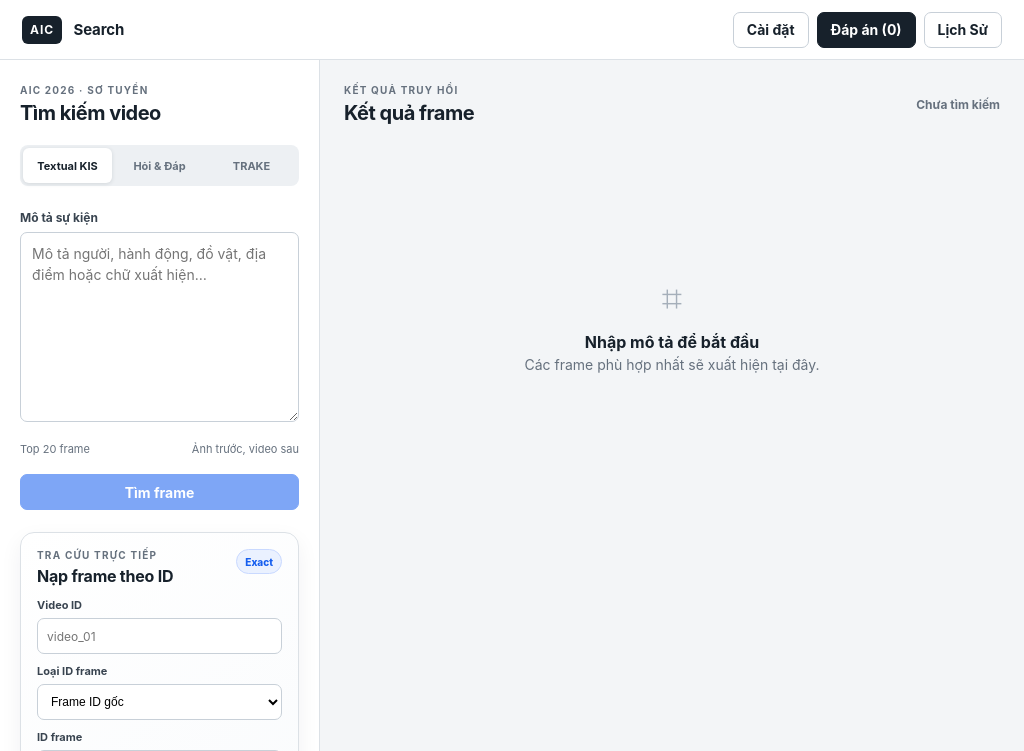
qualification frame-first workbench › shows the keyframe ordinal and source frame in the object result list
Type "Một người" into the text box labelled "Mô tả sự kiện" at point(160, 327), box [20,232,299,422]
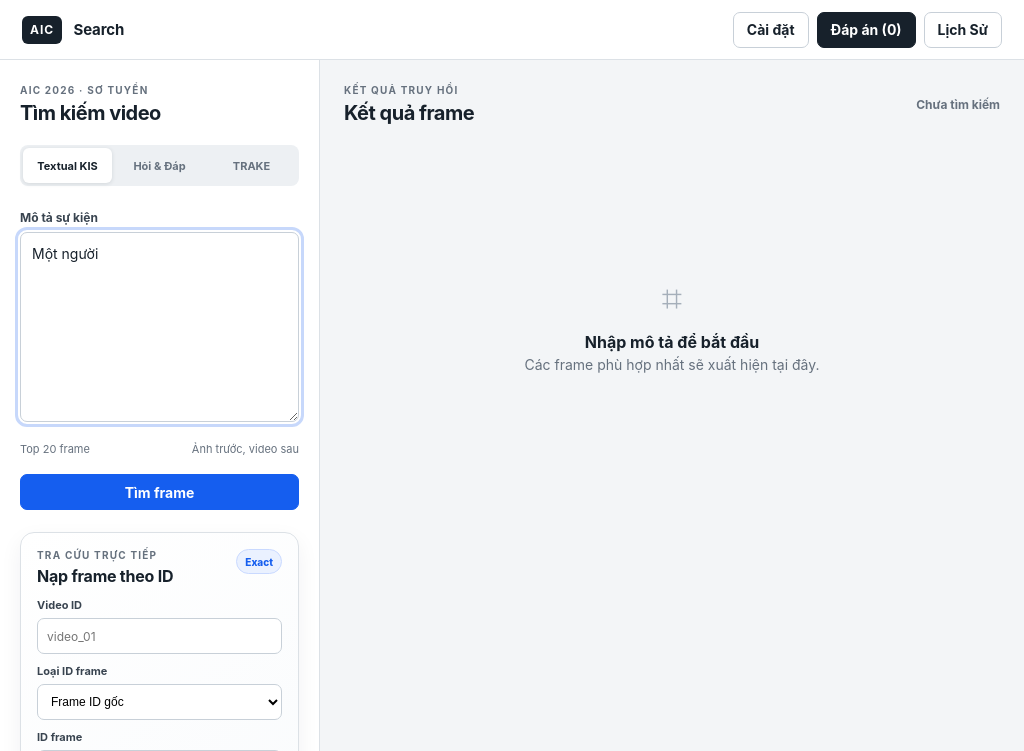
Click the button "Tìm frame" at point(160, 492), box [20,474,299,510]
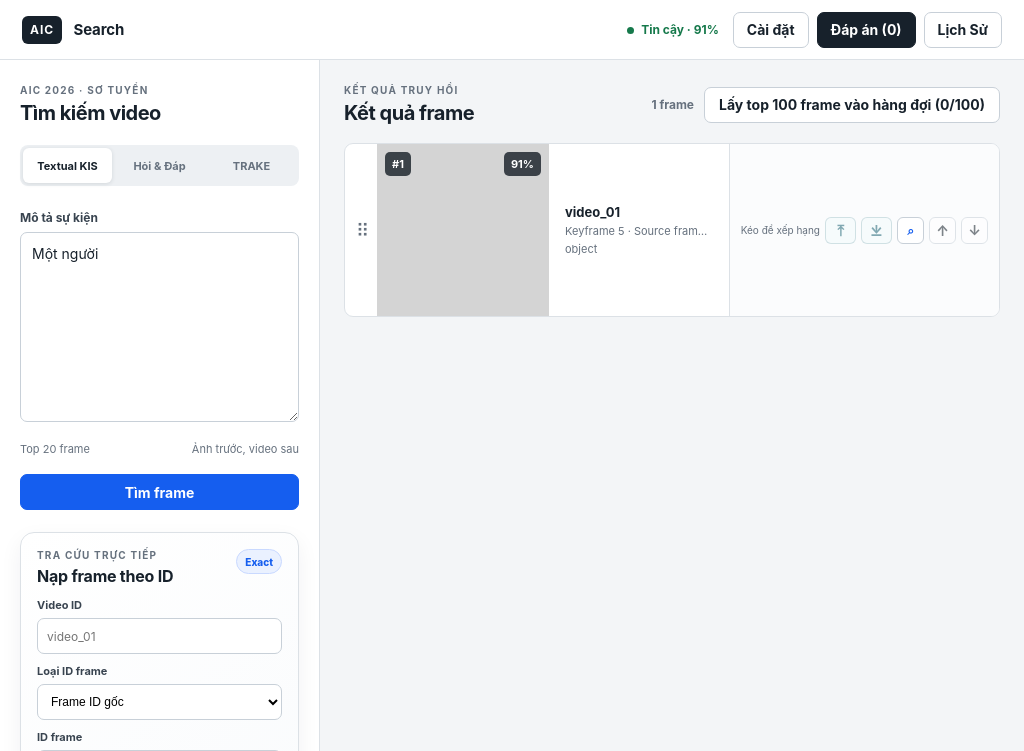
Expected: the text "Keyframe 5 · Source frame 385 · 12.80s" is shown, [565,224,713,238]
Now the button with aria-label "Chọn keyframe video_01 · 5 · source frame 385" is shown, box [377,144,729,316]
